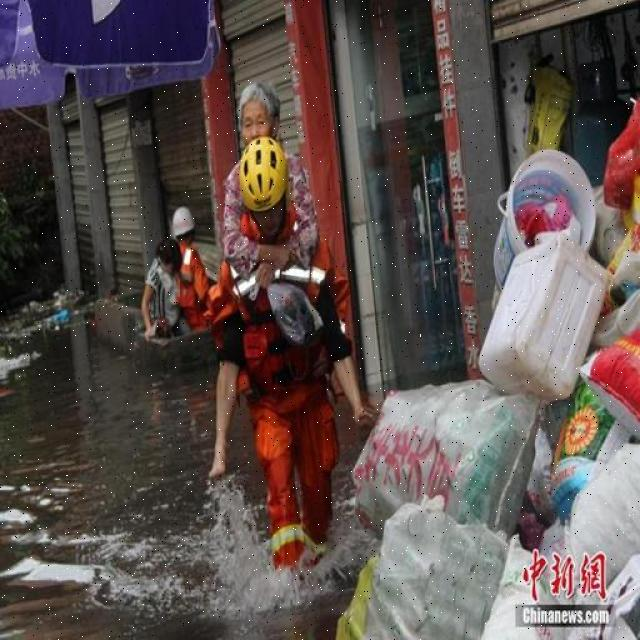rescuer: (224, 138, 335, 592), (174, 203, 218, 322)
